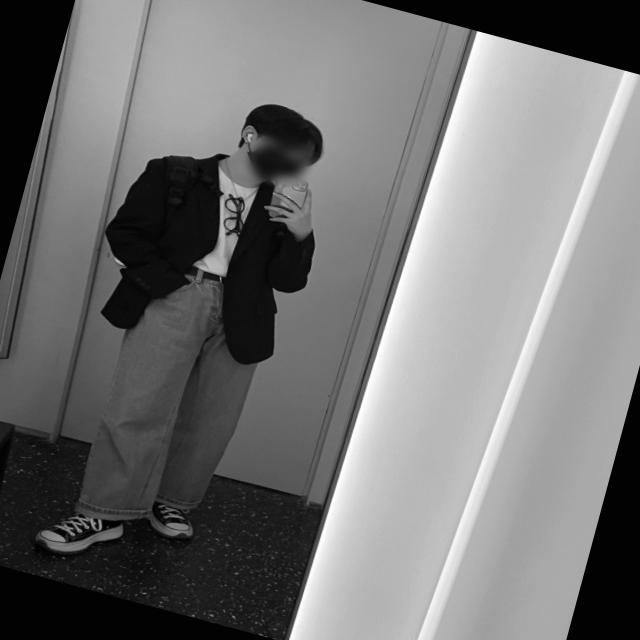blazer: (77, 126, 336, 378)
denimpants: (74, 252, 279, 541)
